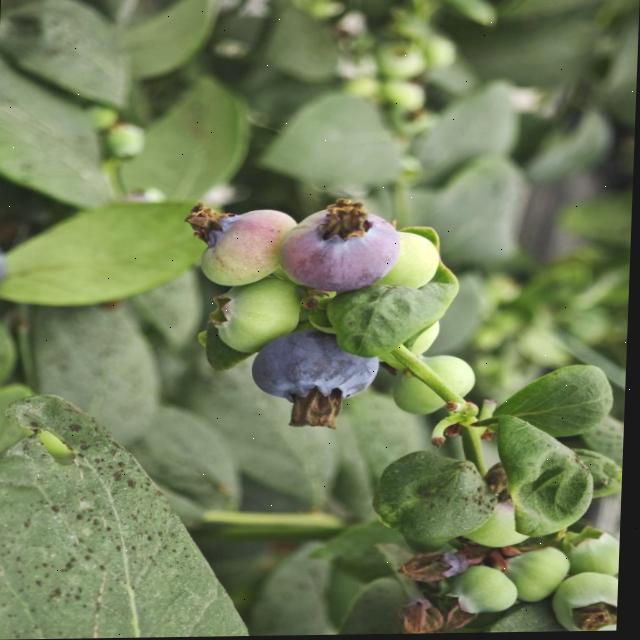Semi-RipeBlueBerry: (284, 207, 403, 293), (187, 207, 289, 286)
UnripeBlueBerry: (213, 284, 303, 352)
